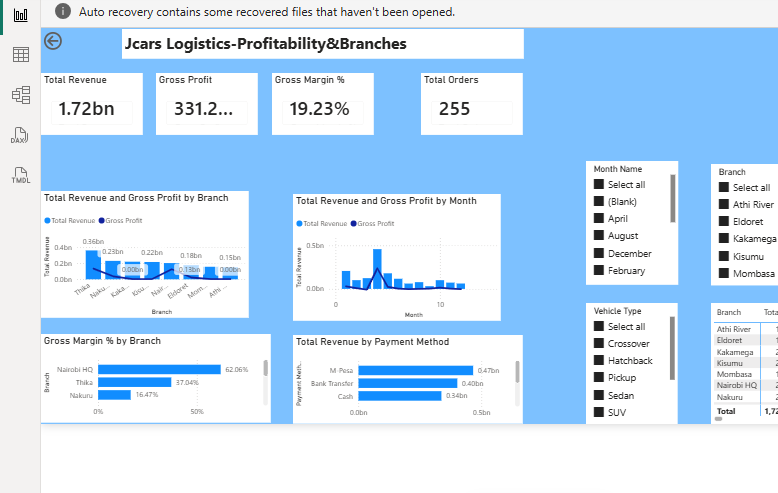

Layout of this report page (visuals, bound fields, positions):
{"tool":"powerbi","page":{"name":"Profitability &Branches","canvas":[1280,720],"ordinal":4},"visuals":[{"type":"cardVisual","title":"Total Revenue","fields":{"Data":["Jcars_Raw.Total Revenue"]},"box":[0,131.7,171,104],"z":0},{"type":"cardVisual","title":"Gross Profit","fields":{"Data":["Jcars_Raw.Gross Profit"]},"box":[193.3,131.7,171,104],"z":1000},{"type":"cardVisual","title":"Gross Margin %","fields":{"Data":["Jcars_Raw.Gross Margin %"]},"box":[388.3,131.7,171,104],"z":2000},{"type":"cardVisual","title":"Total Orders","fields":{"Data":["Jcars_Raw.Total Orders"]},"box":[638.3,131.7,171,104],"z":3000},{"type":"lineClusteredColumnComboChart","fields":{"Category":["Jcars_dimLocation.Branch"],"Y":["Jcars_Raw.Total Revenue"],"Y2":["Jcars_Raw.Gross Profit"]},"box":[0,329.2,349.4,213.3],"z":4000},{"type":"lineClusteredColumnComboChart","fields":{"Category":["Jcars_dimDate.Month"],"Y":["Jcars_Raw.Total Revenue"],"Y2":["Jcars_Raw.Gross Profit"]},"box":[423.3,334.3,349,213],"z":5000},{"type":"clusteredBarChart","fields":{"Category":["Jcars_dimLocation.Branch"],"Y":["Jcars_Raw.Gross Margin %"]},"box":[0,569.4,386.4,149],"z":6000},{"type":"clusteredBarChart","fields":{"Category":["Jcars_factSales.Payment Method"],"Y":["Jcars_Raw.Total Revenue"]},"box":[423.3,571.1,386,149],"z":7000},{"type":"slicer","fields":{"Values":["Jcars_dimDate.Month Name"]},"box":[915.5,278.8,154.5,208.3],"z":8000},{"type":"slicer","fields":{"Values":["Jcars_dimLocation.Branch"]},"box":[1125.5,283.9,154,204],"z":9000},{"type":"slicer","fields":{"Values":["Jcars_factSales.Vehicle Type"]},"box":[915.5,517.4,154,204],"z":10000},{"type":"pivotTable","fields":{"Rows":["Jcars_factSales.Branch"],"Values":["Jcars_Raw.Total Revenue","Jcars_Raw.Gross Profit","Jcars_Raw.Gross Margin %","Jcars_Raw.Total Cars Sold","Jcars_Raw.Total Orders"]},"box":[1125.5,517.4,154,204],"z":11000},{"type":"actionButton","box":[0,0,100,40],"z":12000},{"type":"textbox","box":[1266.6,1.7,13.4,719],"z":13000},{"type":"textbox","box":[136.7,56.7,675,50],"z":14000},{"type":"actionButton","box":[0,56.7,100,40],"z":15000}]}

Visuals, with their boxes on the page's 1280x720 design canvas (x1, y1, x2, y2). These are canvas units, not pixel positions in the 778x493 screenshot, which may show the page scaled, cropped or inside an application window:
"Total Revenue" cardVisual: Rect(0, 132, 171, 236)
"Gross Profit" cardVisual: Rect(193, 132, 364, 236)
"Gross Margin %" cardVisual: Rect(388, 132, 559, 236)
"Total Orders" cardVisual: Rect(638, 132, 809, 236)
lineClusteredColumnComboChart - Jcars_dimLocation.Branch x Jcars_Raw.Total Revenue: Rect(0, 329, 349, 542)
lineClusteredColumnComboChart - Jcars_dimDate.Month x Jcars_Raw.Total Revenue: Rect(423, 334, 772, 547)
clusteredBarChart - Jcars_dimLocation.Branch x Jcars_Raw.Gross Margin %: Rect(0, 569, 386, 718)
clusteredBarChart - Jcars_factSales.Payment Method x Jcars_Raw.Total Revenue: Rect(423, 571, 809, 720)
slicer - Jcars_dimDate.Month Name: Rect(916, 279, 1070, 487)
slicer - Jcars_dimLocation.Branch: Rect(1126, 284, 1280, 488)
slicer - Jcars_factSales.Vehicle Type: Rect(916, 517, 1070, 721)
pivotTable - Jcars_factSales.Branch x Jcars_Raw.Total Revenue: Rect(1126, 517, 1280, 721)
actionButton: Rect(0, 0, 100, 40)
textbox: Rect(1267, 2, 1280, 721)
textbox: Rect(137, 57, 812, 107)
actionButton: Rect(0, 57, 100, 97)
